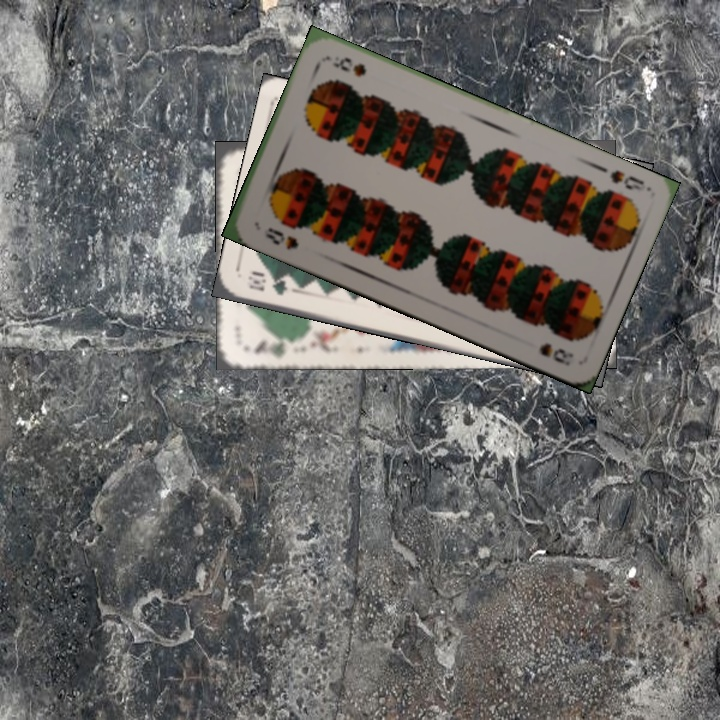G10: (244, 269, 290, 298)
GK: (249, 336, 287, 361)
S8: (606, 165, 650, 194), (260, 223, 301, 252)
